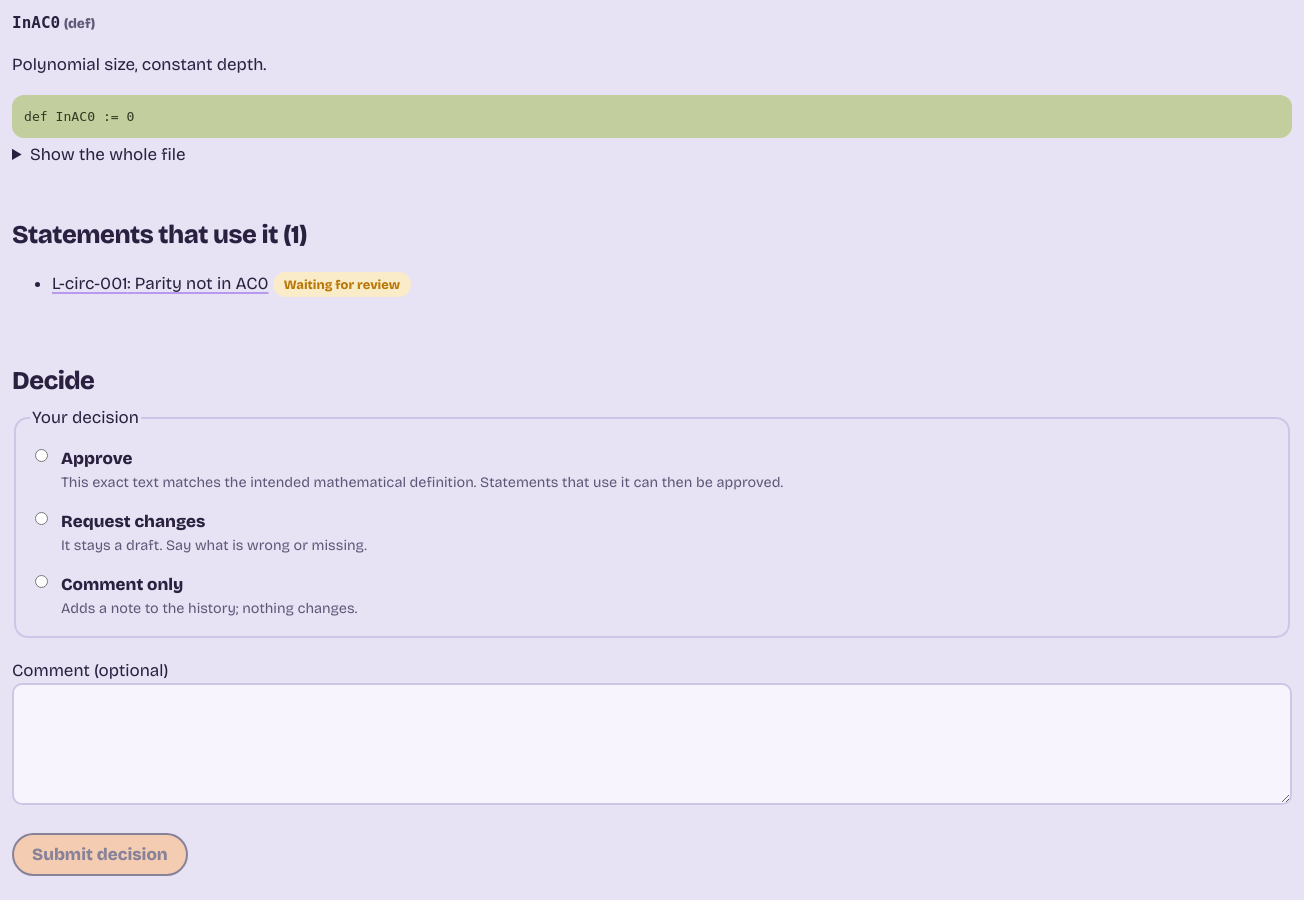
Test: the review tool › definition: a stale page cannot decide; the reviewer is told to reload
This screenshot has width=1304, height=900.
(page scrolled)
Step 1. Click the radio button labelled "Approve" → (42, 456), box x1=35 y1=449 x2=48 y2=462
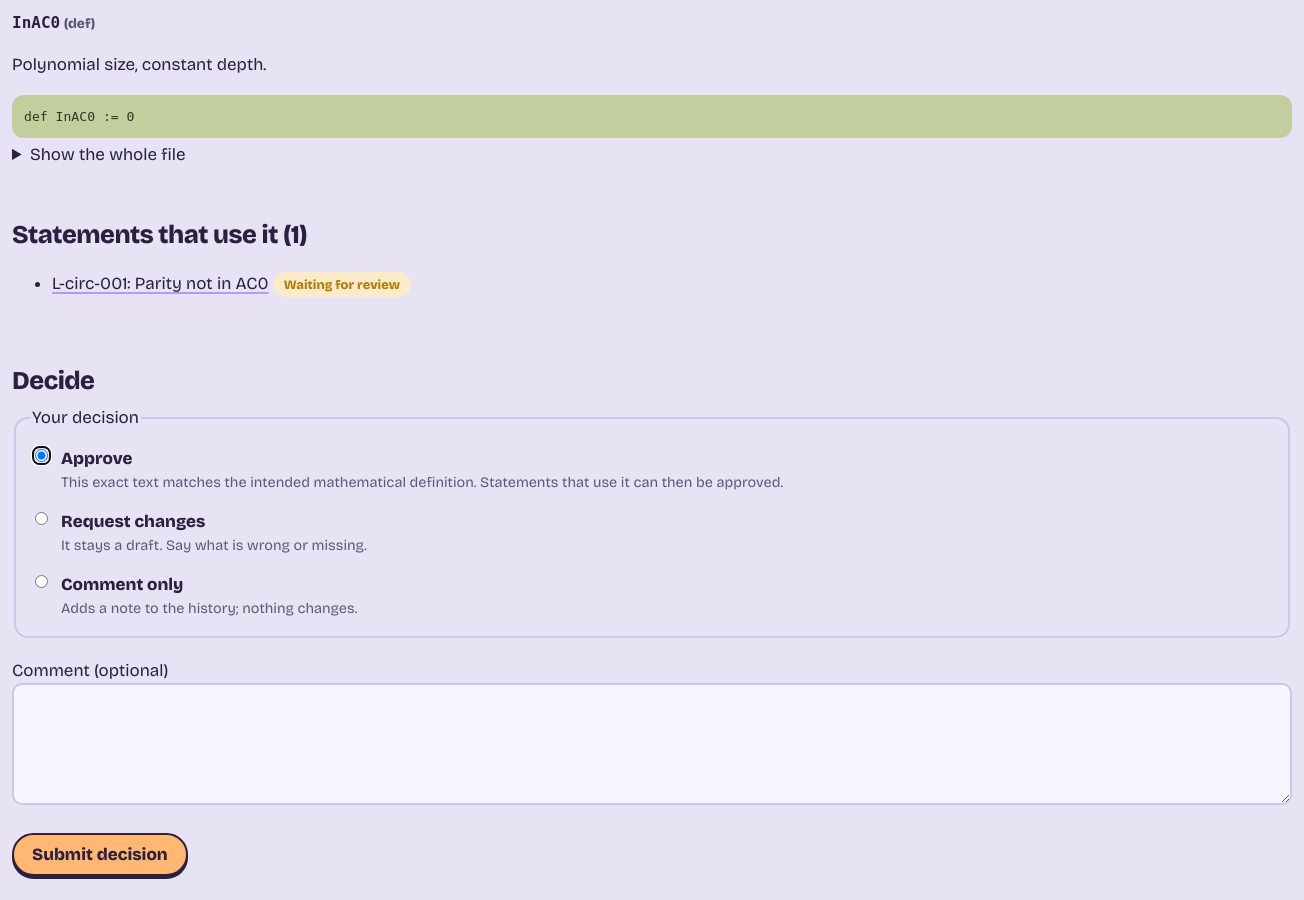
Step 2. Click the button "Submit decision" → (100, 854), box x1=12 y1=833 x2=188 y2=876
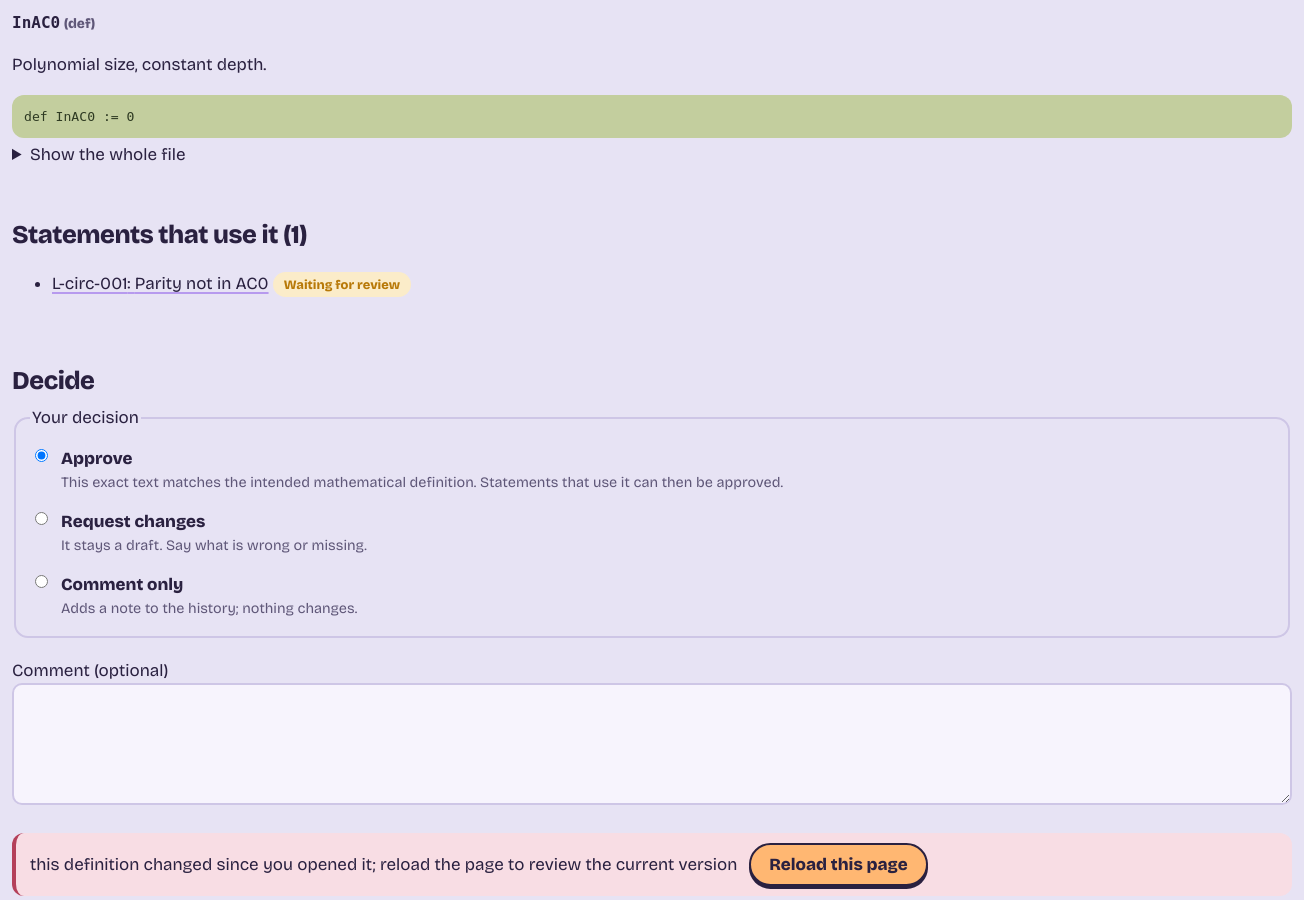
Expected: the message is shown, x1=12 y1=833 x2=1292 y2=896
Expected: the button "Reload this page" is shown, x1=749 y1=843 x2=928 y2=886
